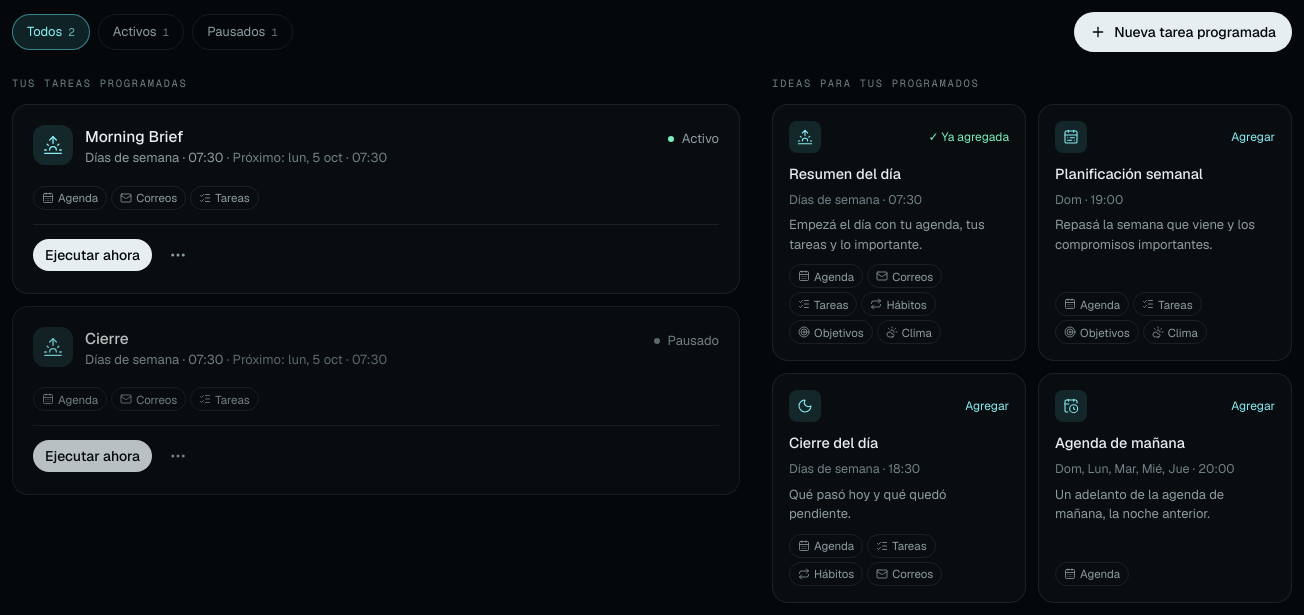
Programados editor and cards (ADR-067) › filters: active, paused, all
The image size is (1304, 615).
Click the button "Pausados1" at x=243, y=32, box [192,14,293,50]
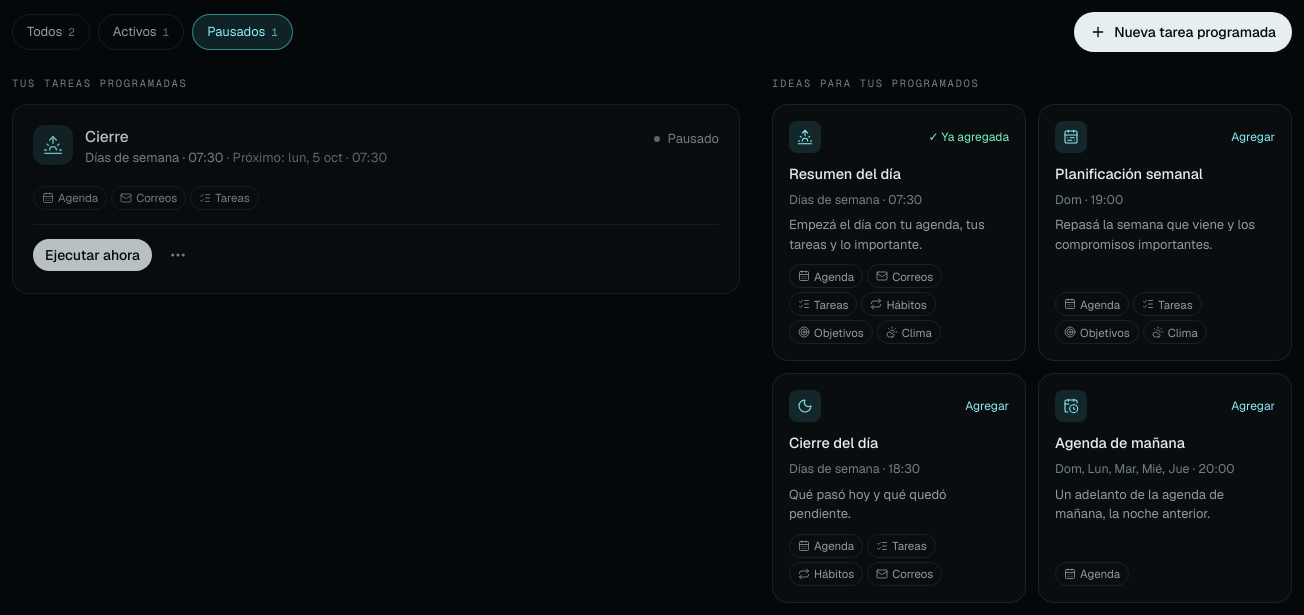
Expected: the text "Cierre" is shown, [85,126,129,147]
Now the text "Morning Brief" is gone
Click the button "Todos2" at x=51, y=32, box [12,14,90,50]
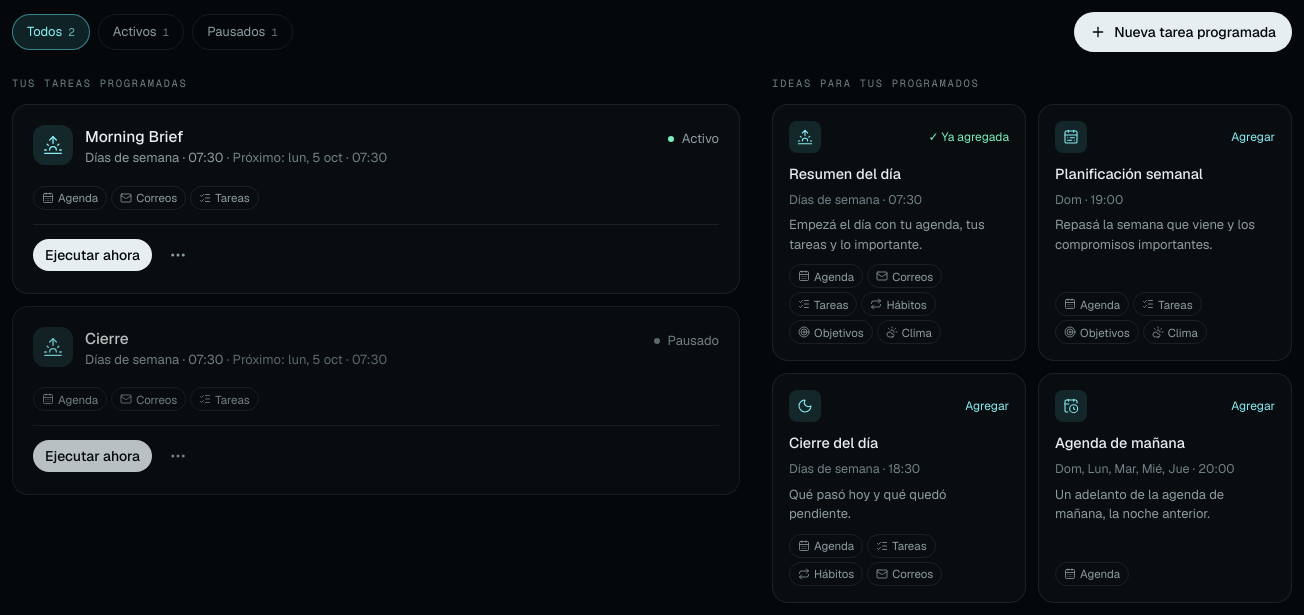
Now the text "Morning Brief" is shown, box [85,126,183,147]
